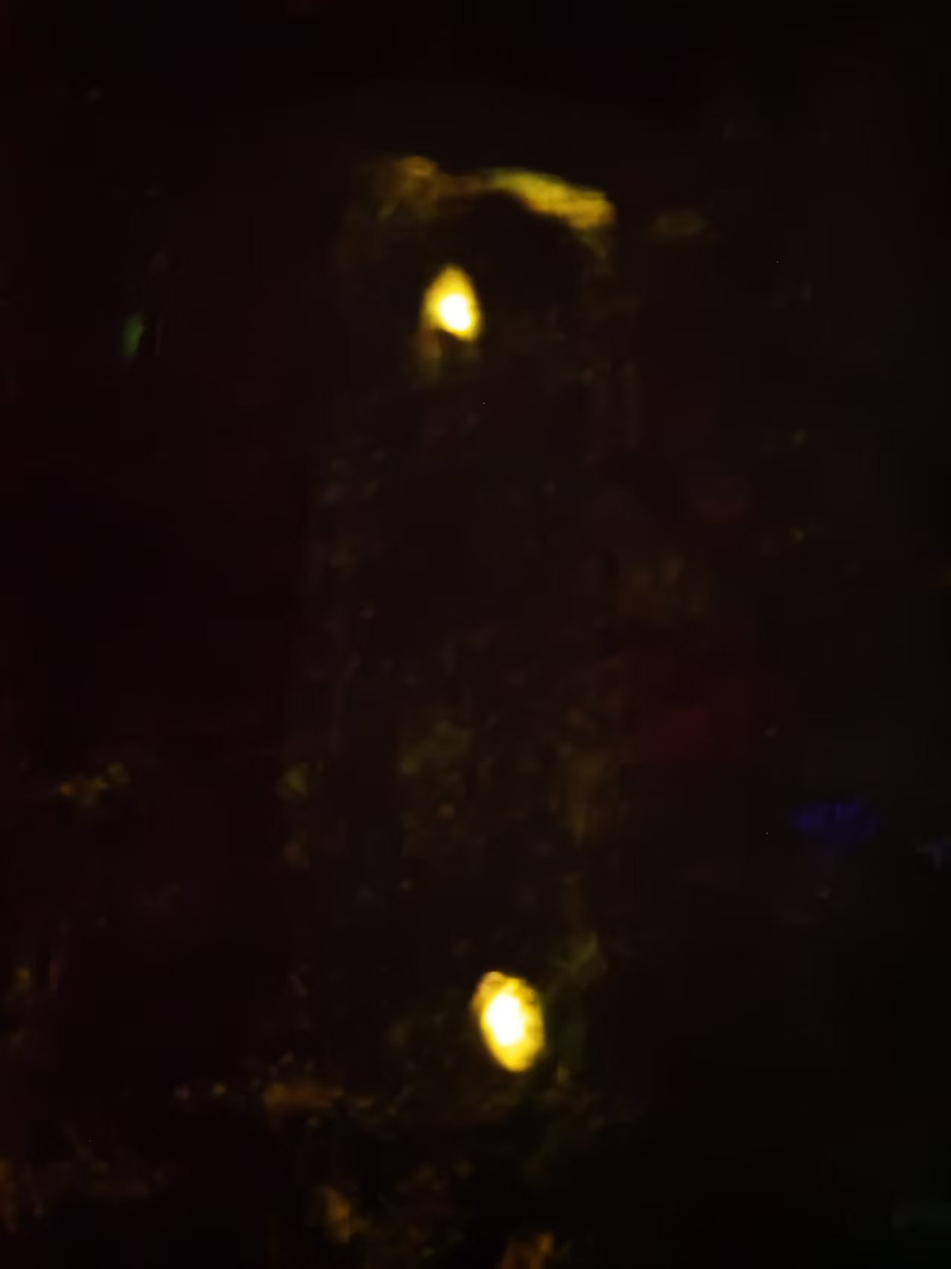Crater: (369, 252, 538, 366), (442, 951, 571, 1096)
